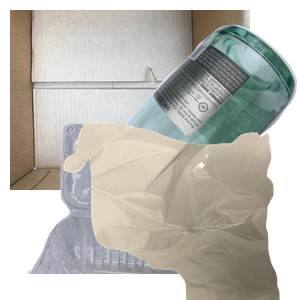cardboard: (10, 10, 250, 190)
glass: (86, 22, 300, 202)
plastic: (25, 120, 245, 300)
trash: (61, 120, 300, 300)
